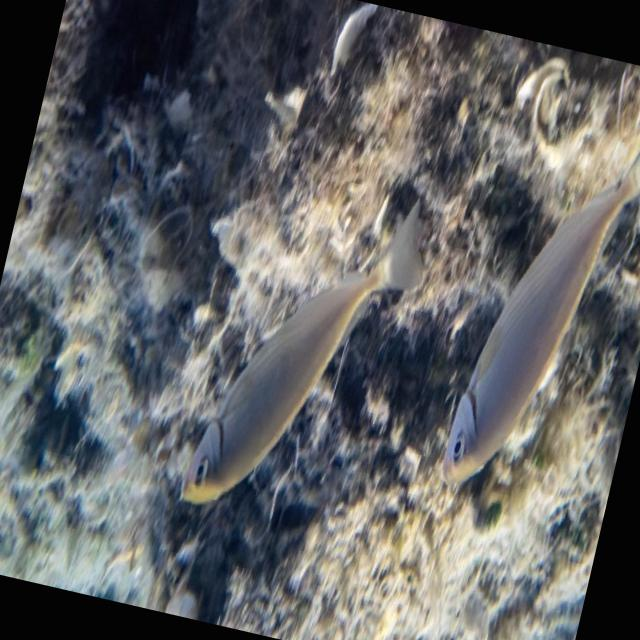Sokar Baligi: (161, 149, 440, 562), (427, 58, 640, 534)
